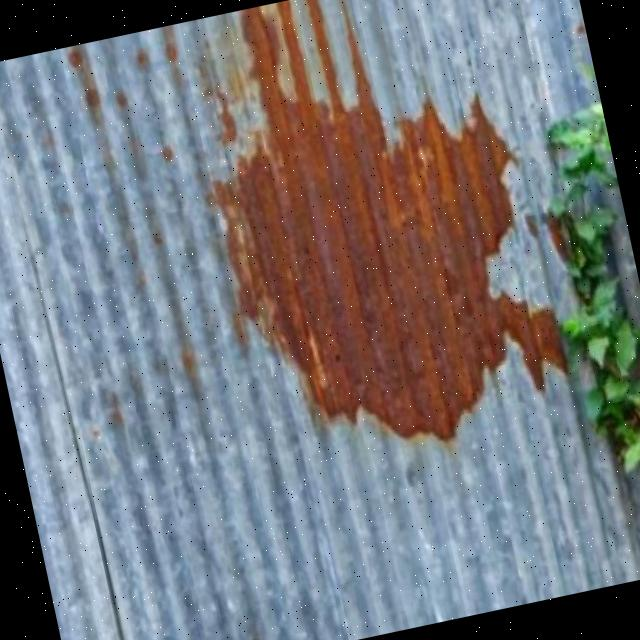Corrosion: (167, 0, 580, 480)
